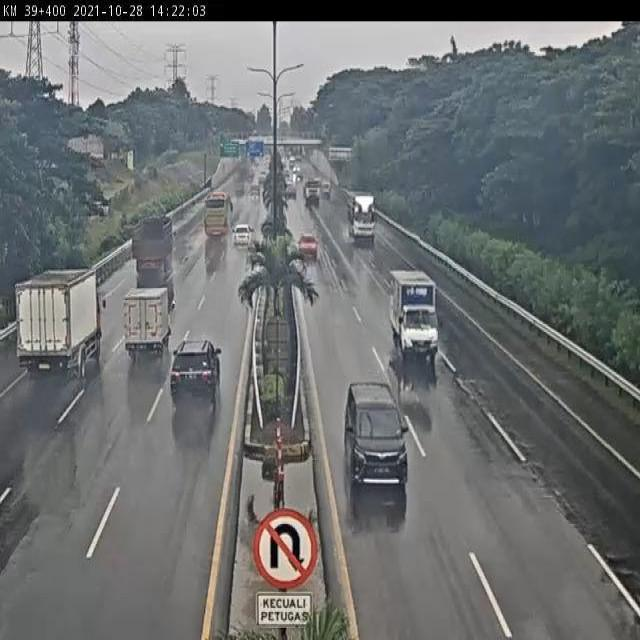big bus: (201, 192, 233, 239)
car: (342, 382, 409, 498), (169, 341, 227, 404), (231, 221, 255, 251), (296, 230, 316, 254)
truck-l-: (348, 189, 379, 239)
truck-m-: (14, 270, 105, 386), (129, 214, 177, 278)
truck-s-: (391, 269, 441, 364), (122, 289, 173, 362)
